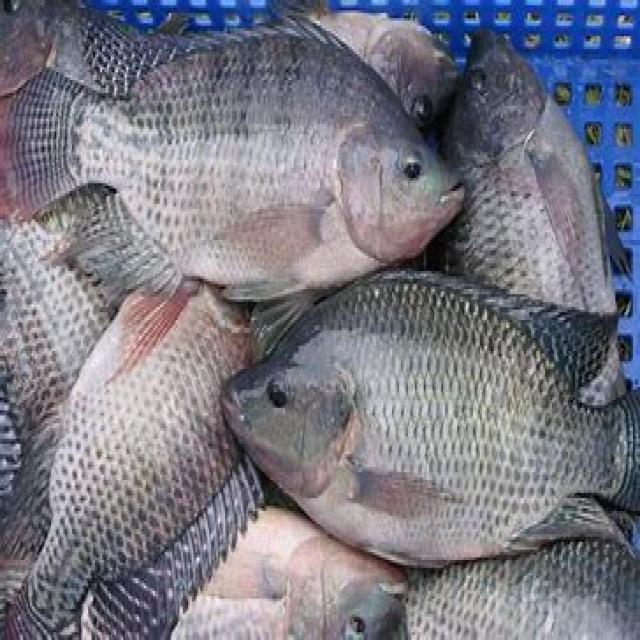Tilapia: (0, 10, 470, 302), (220, 269, 638, 570)
